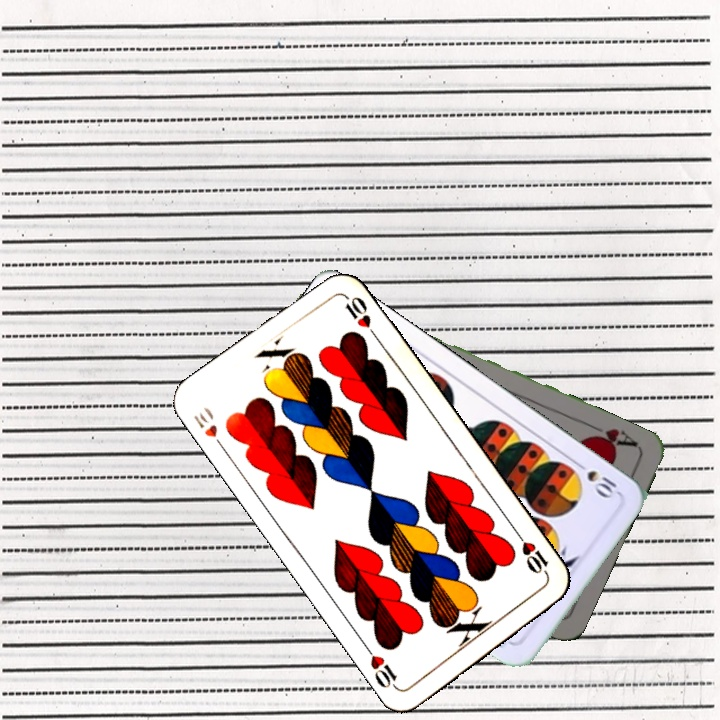H10: (512, 529, 552, 581), (189, 407, 229, 455)
HA: (584, 419, 641, 453)
S10: (570, 456, 622, 502)
